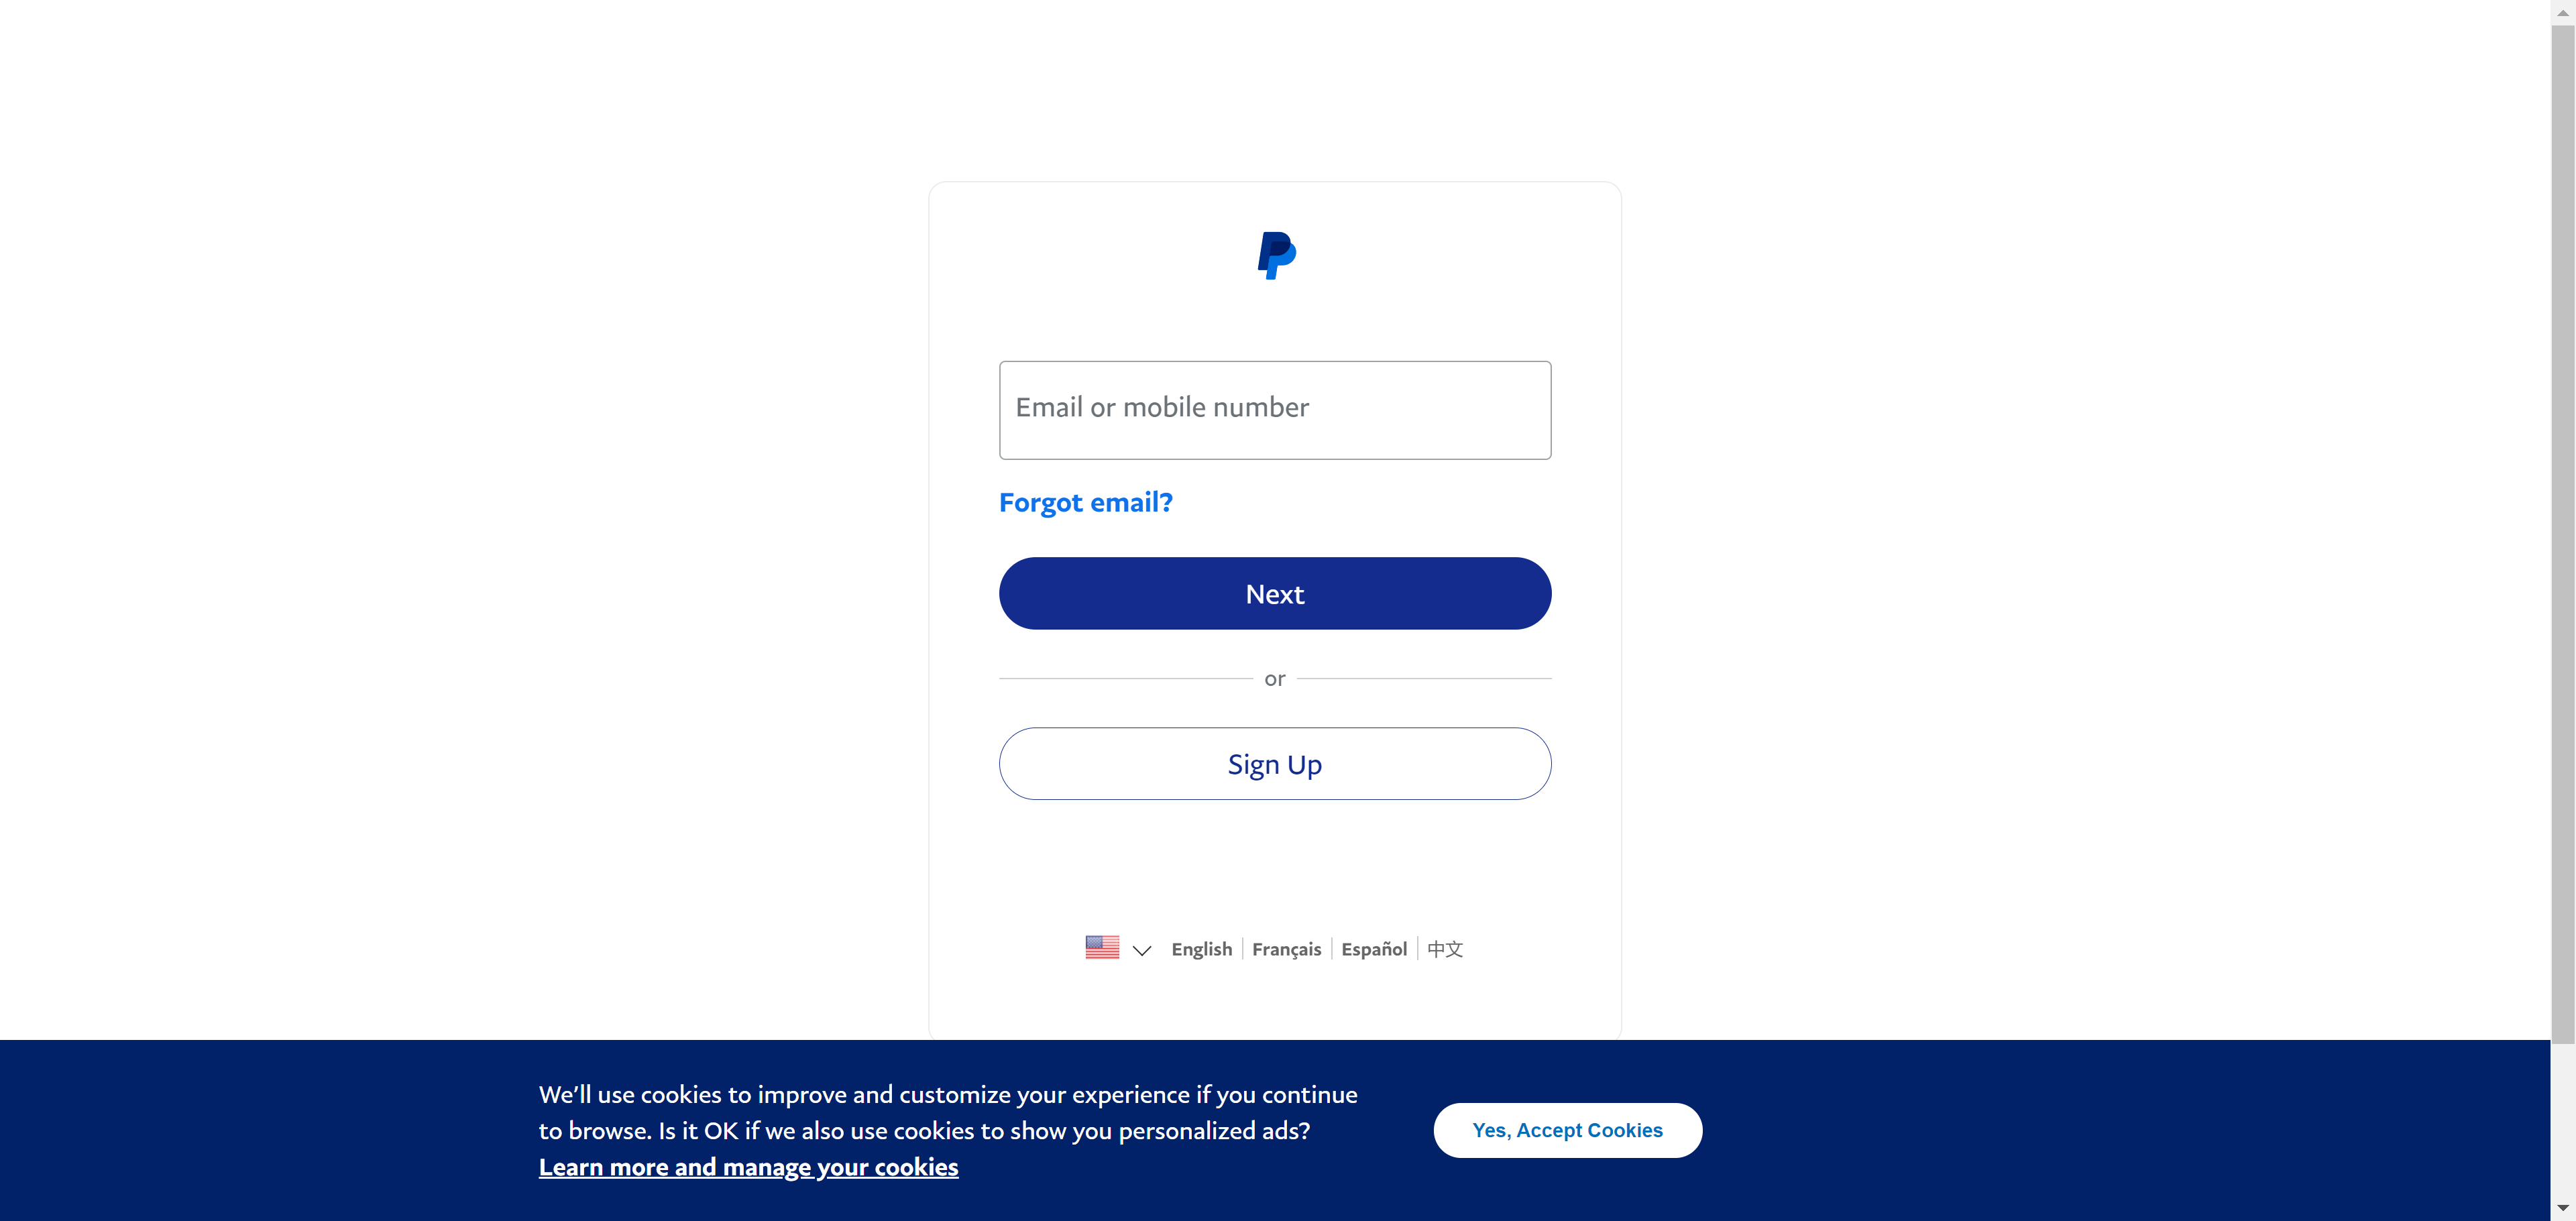login_button: (999, 557, 1552, 629)
login_form: (992, 353, 1559, 638)
